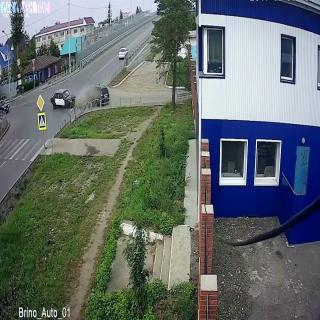multiple_accident: (47, 83, 118, 117)
